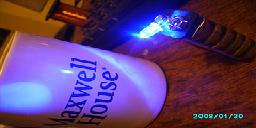LED: (136, 21, 164, 40)
